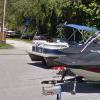Tree: (14, 0, 78, 32)
